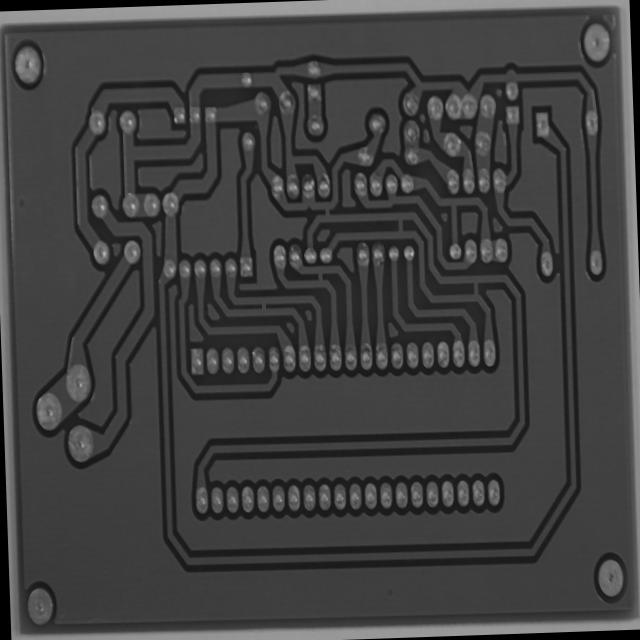short: (464, 269, 486, 306), (314, 194, 336, 225), (308, 261, 332, 289), (391, 209, 411, 241), (255, 294, 272, 318)
